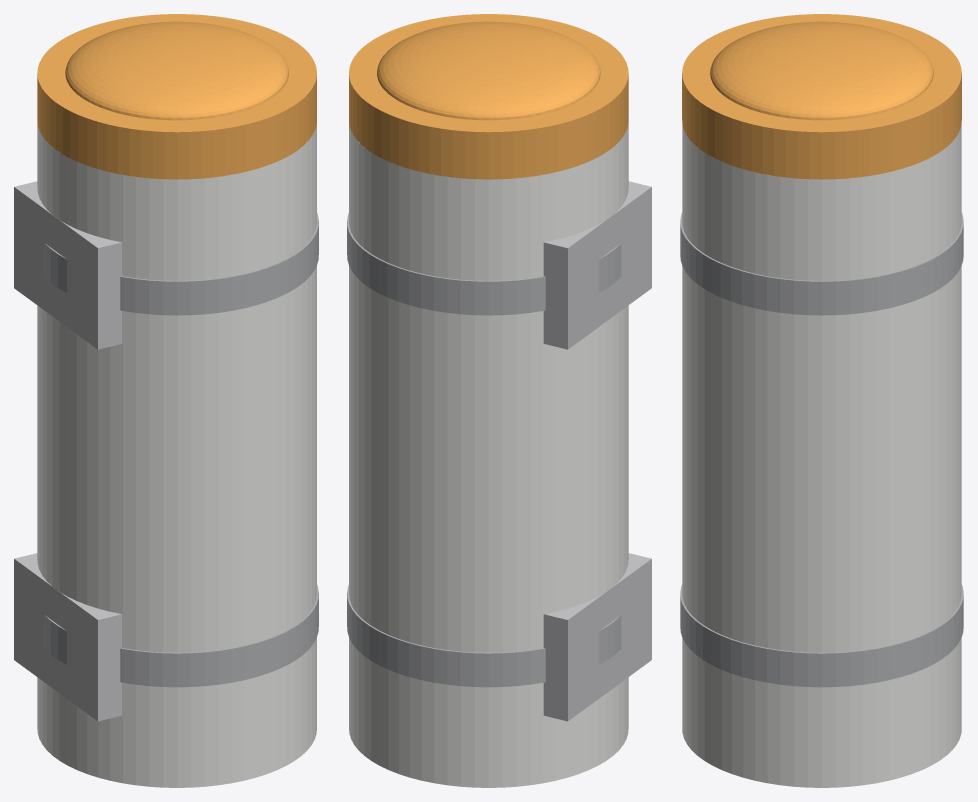
File: stage17_radial_recovery_chute_m.glb
3 renders of one model, left to right at view 1: azimuth 30°, elevation 25°; view 2: azimuth 150°, elevation 25°; view 3: azimuth 270°, elevation 25°, orthographic.
Parts seen in each view (by area): view 1: canister, lid, saddle, bands; view 2: canister, lid, saddle, bands; view 3: canister, lid, bands.
Part boxes in pixels (left/top/right/bottom): canister: left=37, top=122, right=316, bottom=787; lid: left=37, top=14, right=316, bottom=179; saddle: left=14, top=181, right=122, bottom=721; bands: left=44, top=213, right=318, bottom=687; canister: left=349, top=122, right=628, bottom=787; lid: left=349, top=14, right=628, bottom=179; saddle: left=543, top=181, right=651, bottom=721; bands: left=347, top=213, right=621, bottom=687; canister: left=682, top=124, right=961, bottom=787; lid: left=682, top=14, right=961, bottom=179; bands: left=680, top=212, right=963, bottom=687.
Bounding box in the file's own units: 0.6076 × 1.6 × 0.6078.
